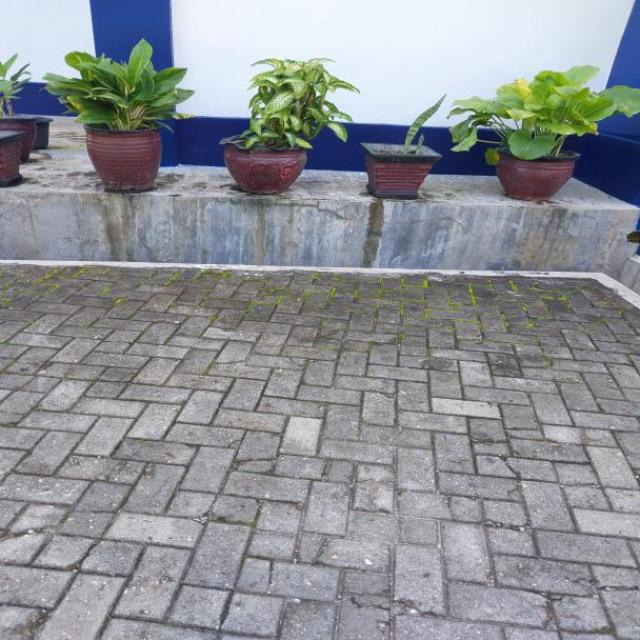plant ahead at: (453, 64, 640, 192), (41, 25, 182, 187), (202, 44, 332, 190), (357, 90, 437, 200)
